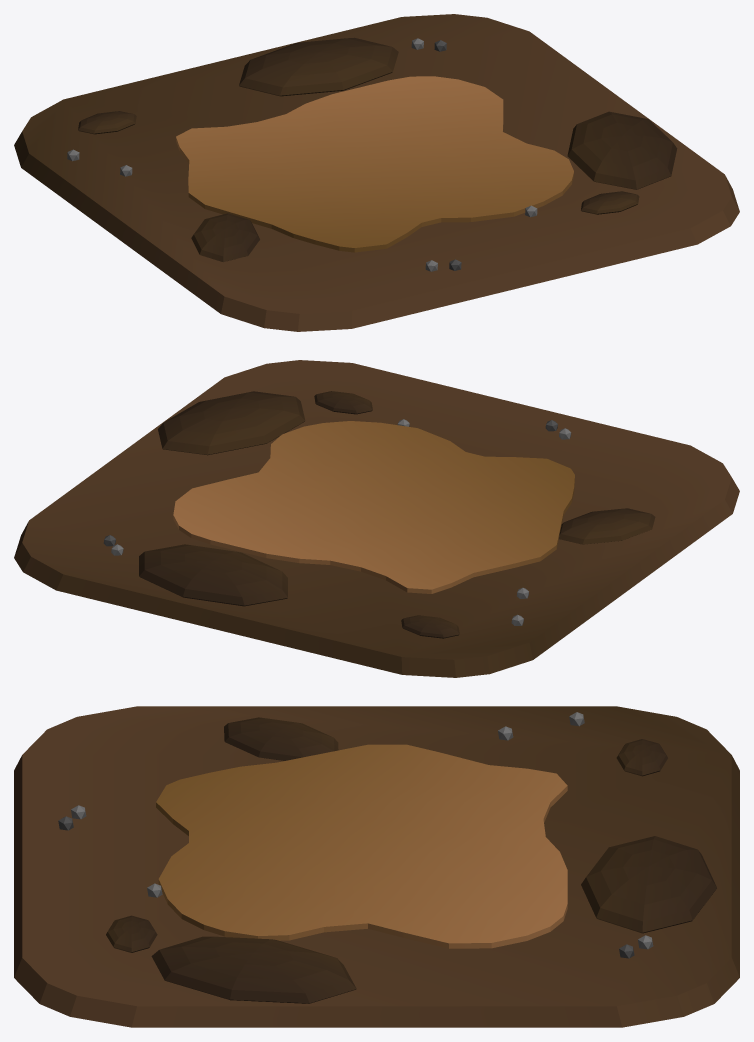
File: farmpack2023mudpit.fbx
The picture shows the model from 3 angles, top to bottom: view 1: azimuth 30°, elevation 25°; view 2: azimuth 150°, elevation 25°; view 3: azimuth 270°, elevation 25°; orthographic projection. The views are drawn at different scales.
Visible parts, largest first — view 1: Sphere.004; view 2: Sphere.004; view 3: Sphere.004.
Part boxes in pixels (box(x1,y1,x2,y2)): Sphere.004: box(14, 14, 739, 331); Sphere.004: box(14, 360, 739, 677); Sphere.004: box(14, 706, 739, 1027).
Size of the model in its own units: 4.08 by 4.08 by 0.2545.
